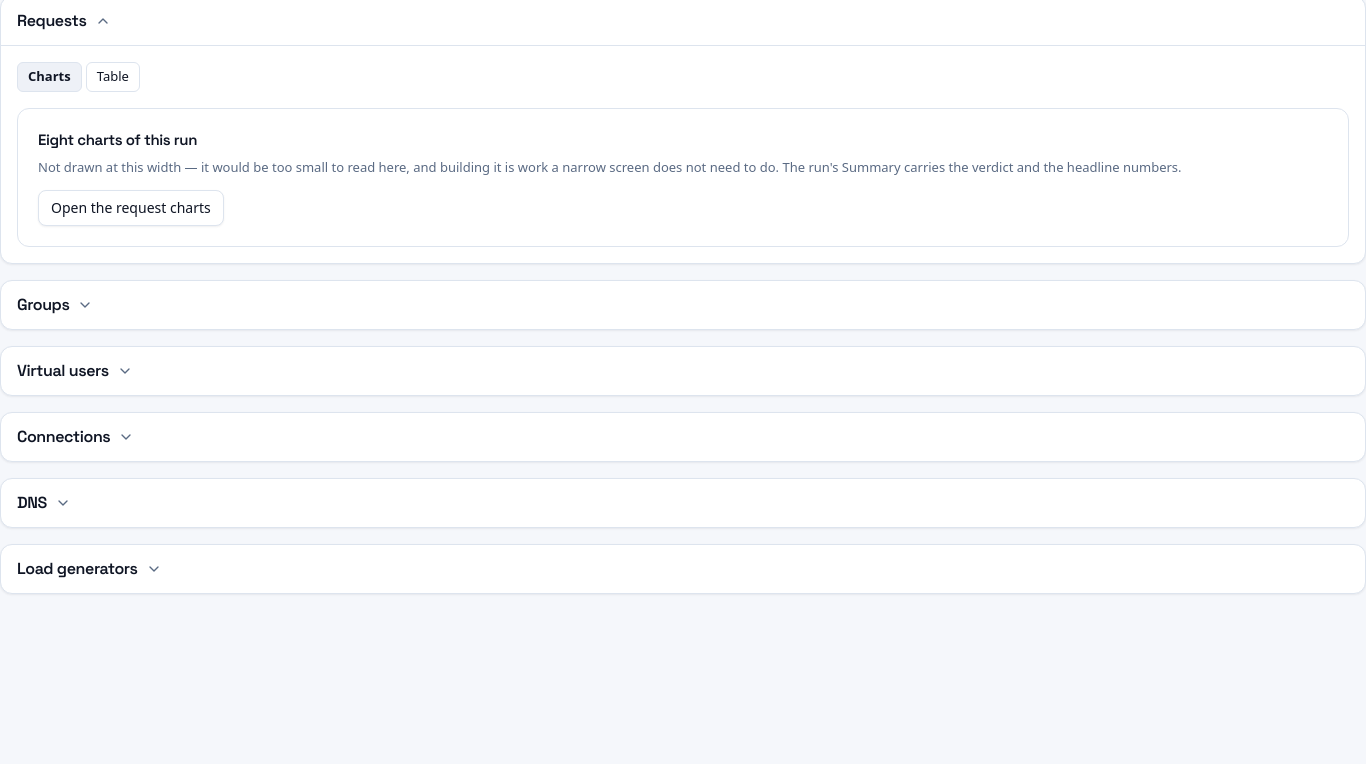
Test: RunReport — GE’s sections › gives every withheld chart section a button with its own name
Click the button "Virtual users": {"x": 75, "y": 371} [17, 359, 133, 383]
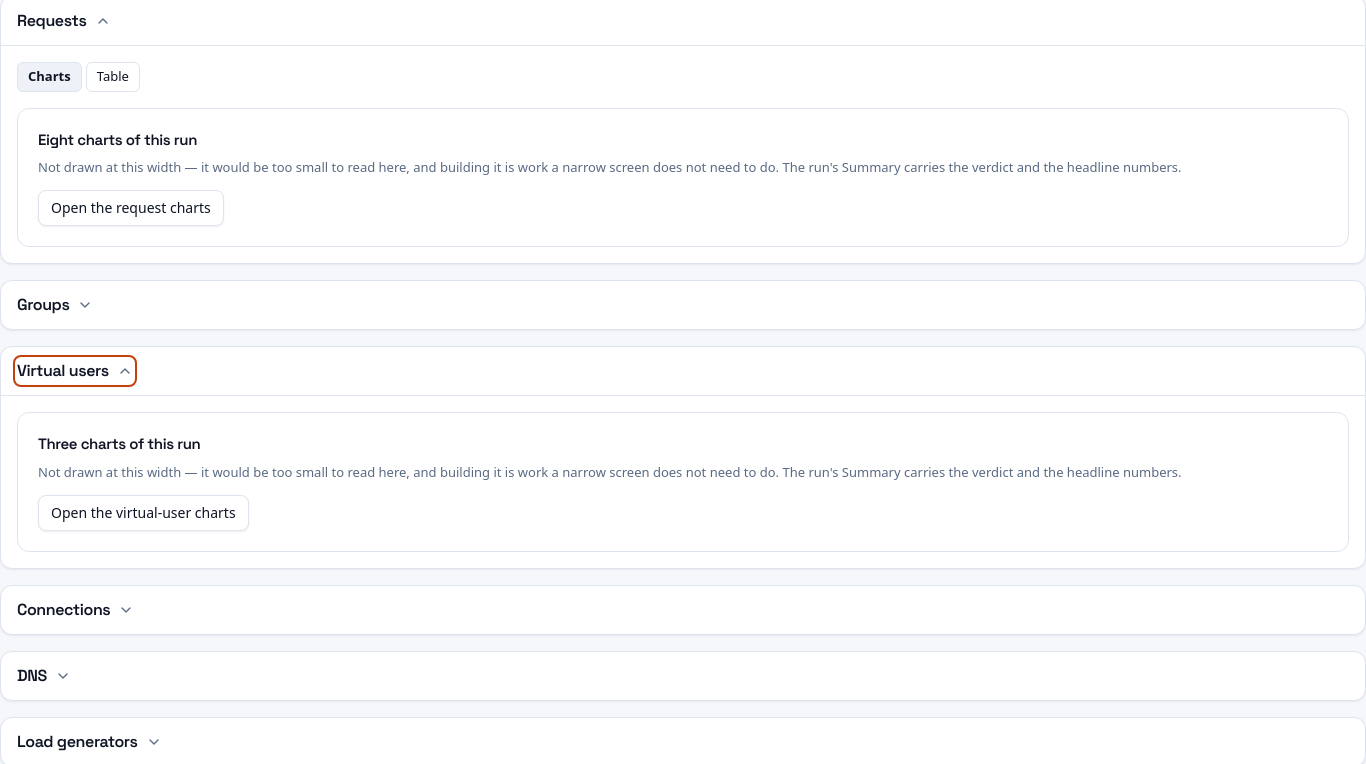
Click the button "Connections": {"x": 76, "y": 610} [17, 598, 134, 622]
(page scrolled)
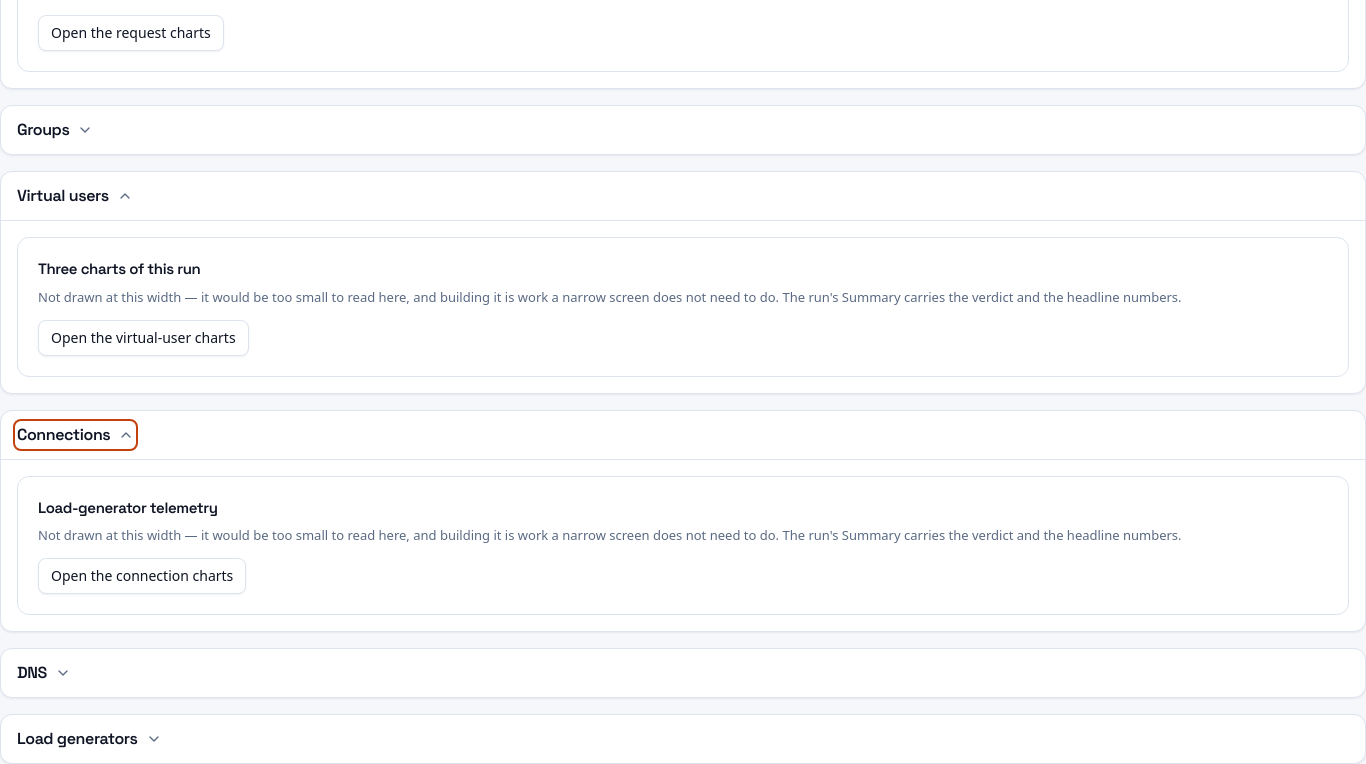
Click the button "Load generators": {"x": 89, "y": 739} [17, 727, 162, 751]
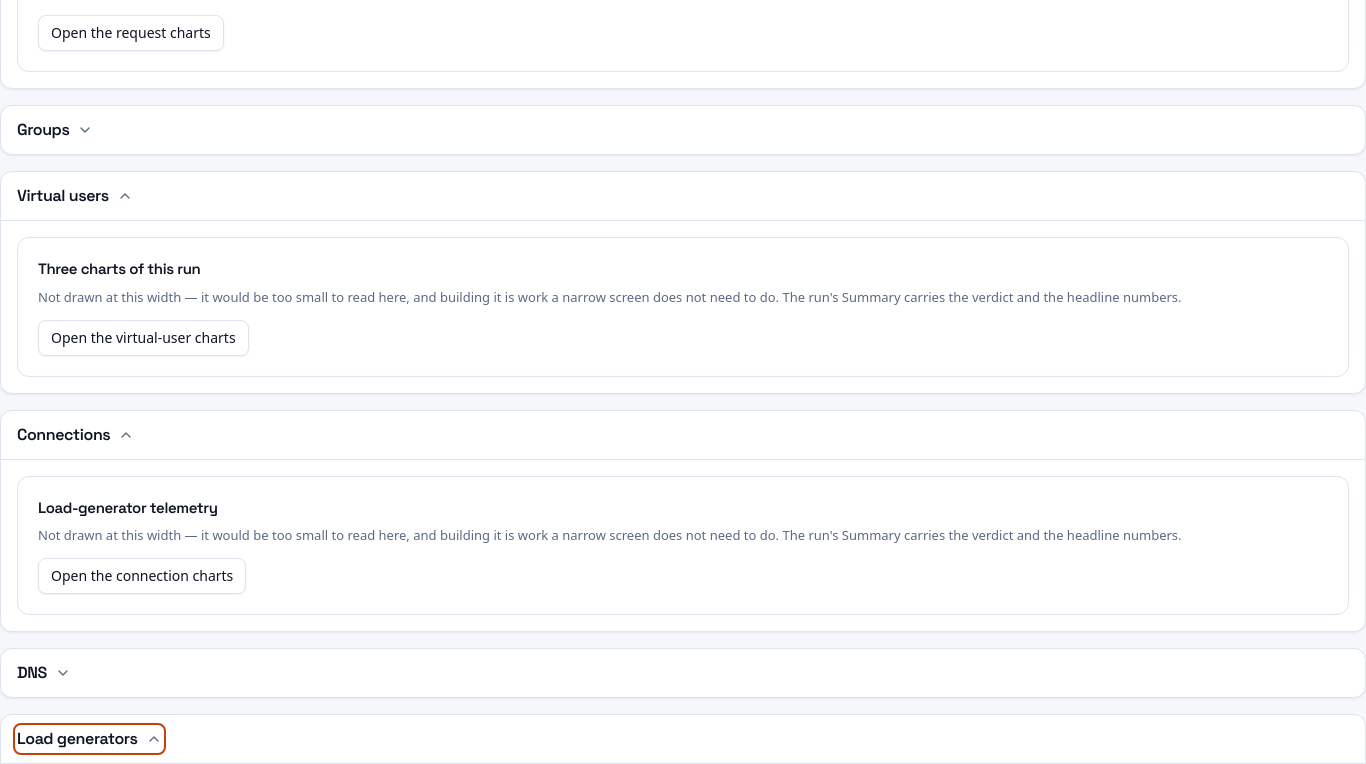
Now the number of buttons with test id "desktop-only-show" is 4
